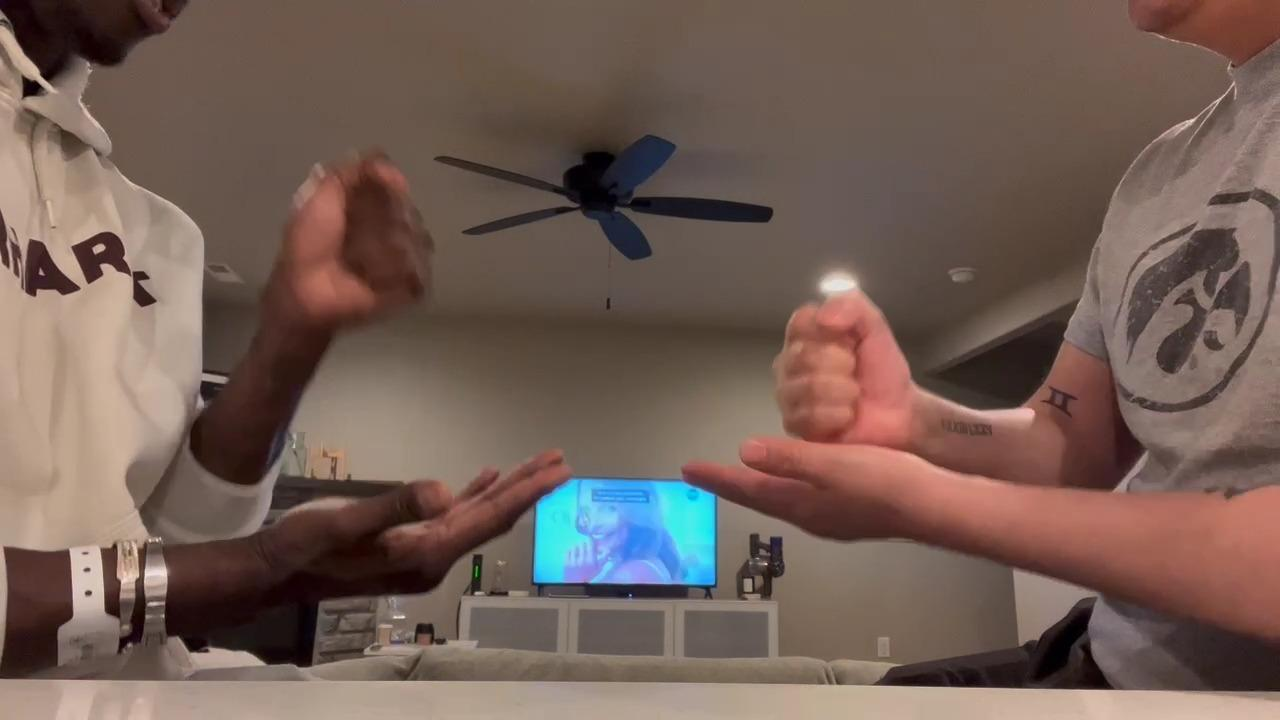Rock: (268, 137, 430, 320), (775, 283, 916, 450)
